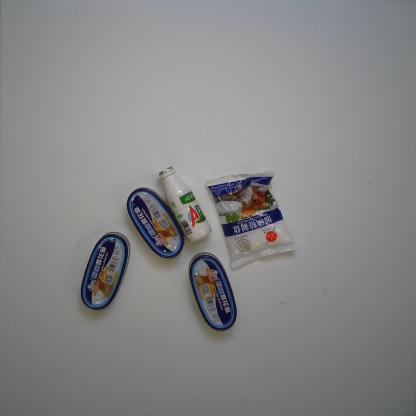Canned Food: (126, 187, 184, 259), (80, 231, 130, 311), (188, 252, 238, 331)
Milk: (158, 166, 212, 244)
Seasoner: (206, 172, 296, 270)
